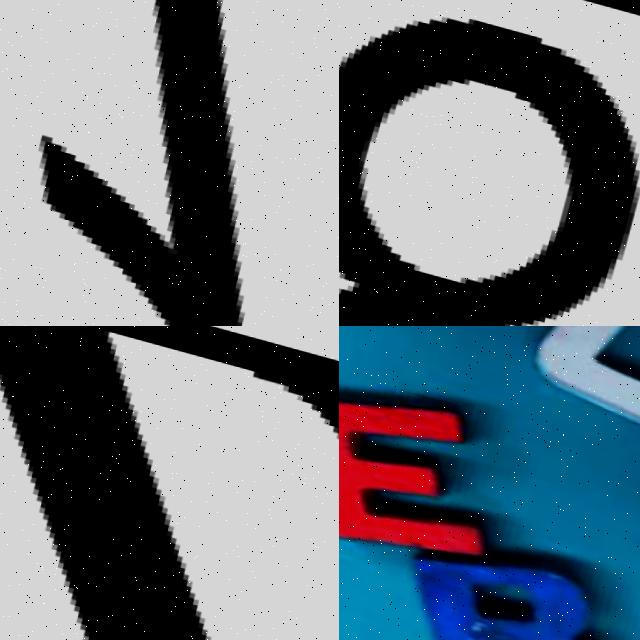1: (0, 0, 339, 326)
8: (339, 0, 640, 326)
B: (387, 512, 640, 640)
E: (339, 346, 543, 576)
Q: (514, 326, 640, 431)
Z: (0, 326, 339, 640)
